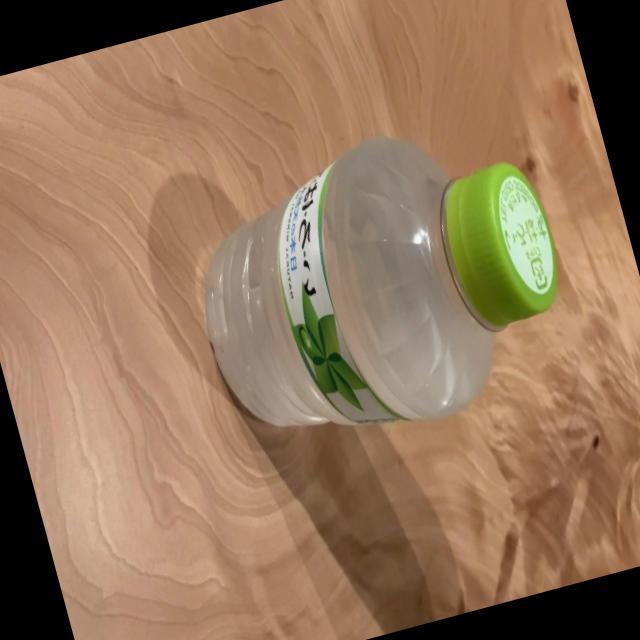good: (168, 97, 596, 476)
